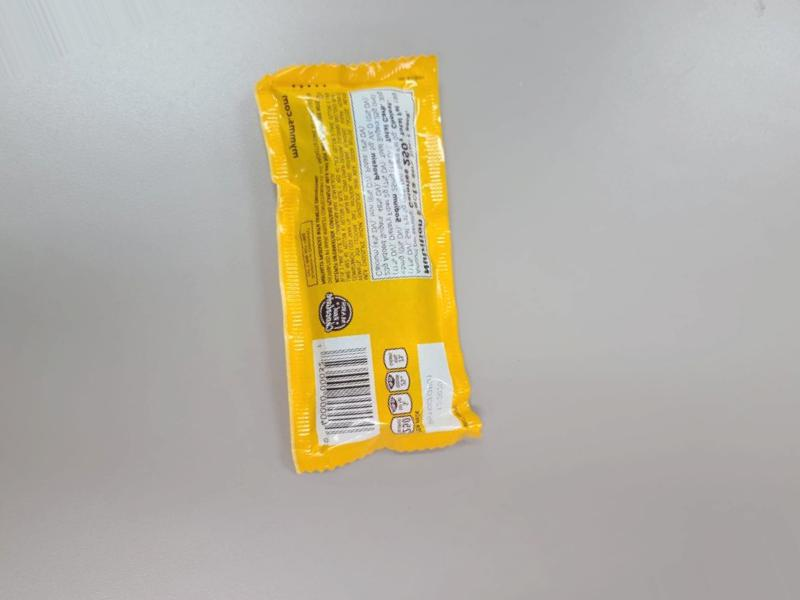m&m: (260, 46, 467, 463)
